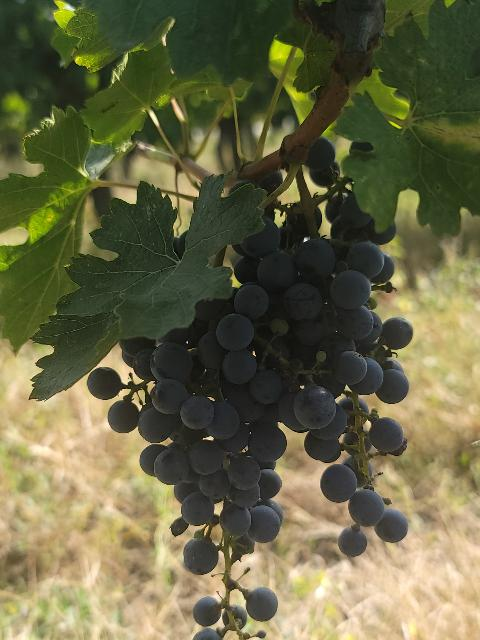grapes: (216, 220, 412, 555), (109, 320, 286, 574)
